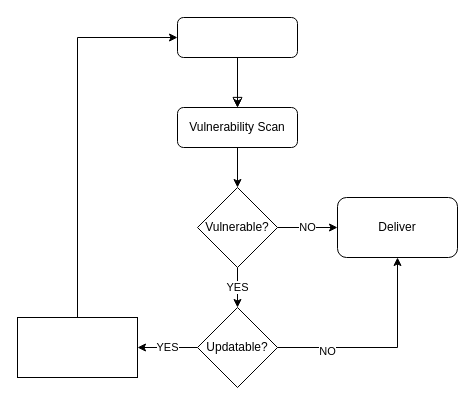
Some shapes in this 475 by 405 pixel diagram are drawn without their labels. Each missing label, with the centre of its shape:
"Build Package" goes at pixel 237 37.
"Update" goes at pixel 77 347.
